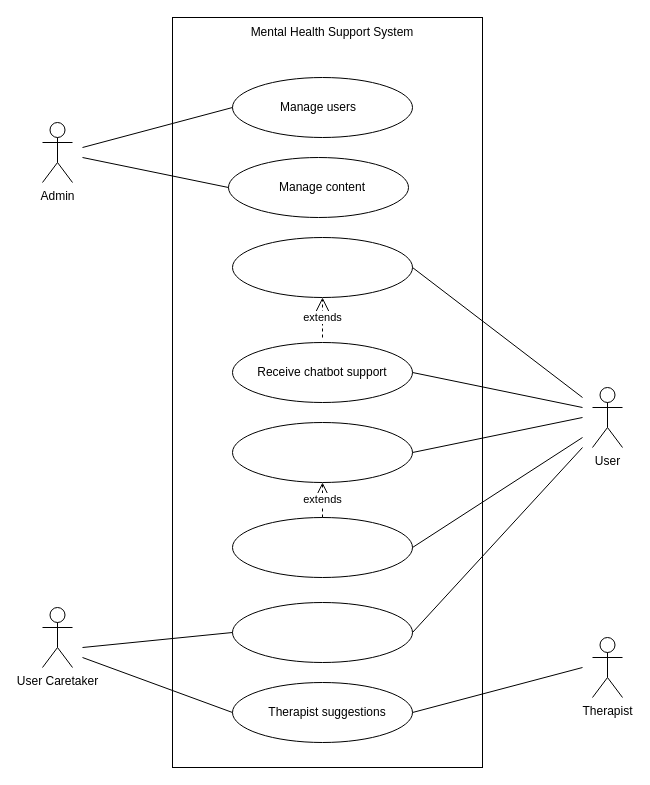
The diagram is 650 pixels wide and 785 high, and some of its shapes have lost their labels. Each missing label, with the centre of its shape:
Set Reminders: point 322,547
Take mental health quiz: point 322,267
Track Progress: point 322,632
View selfcare suggestions: point 322,452
